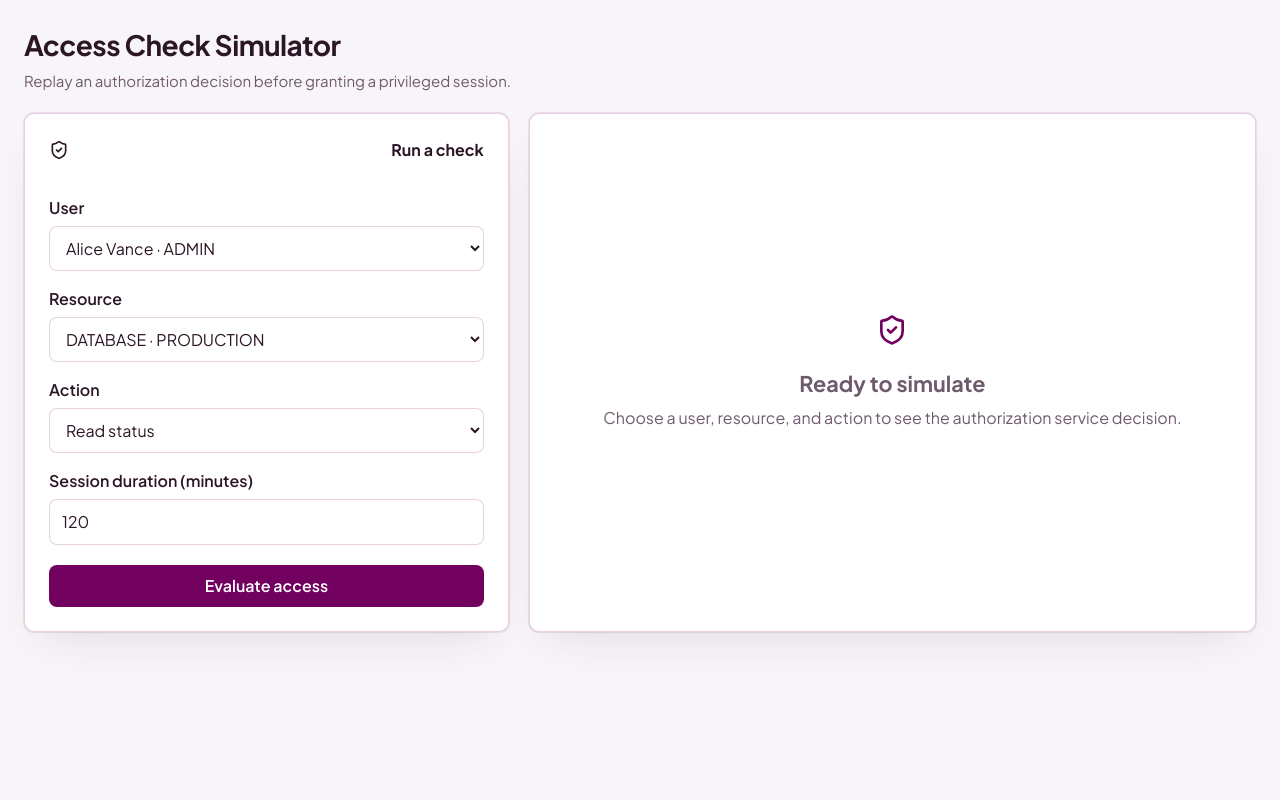
Access check simulator › shows the APPROVAL_REQUIRED decision and reason
This screenshot has width=1280, height=800.
Click the button "Evaluate access".
click(266, 586)  # box [49, 564, 484, 606]
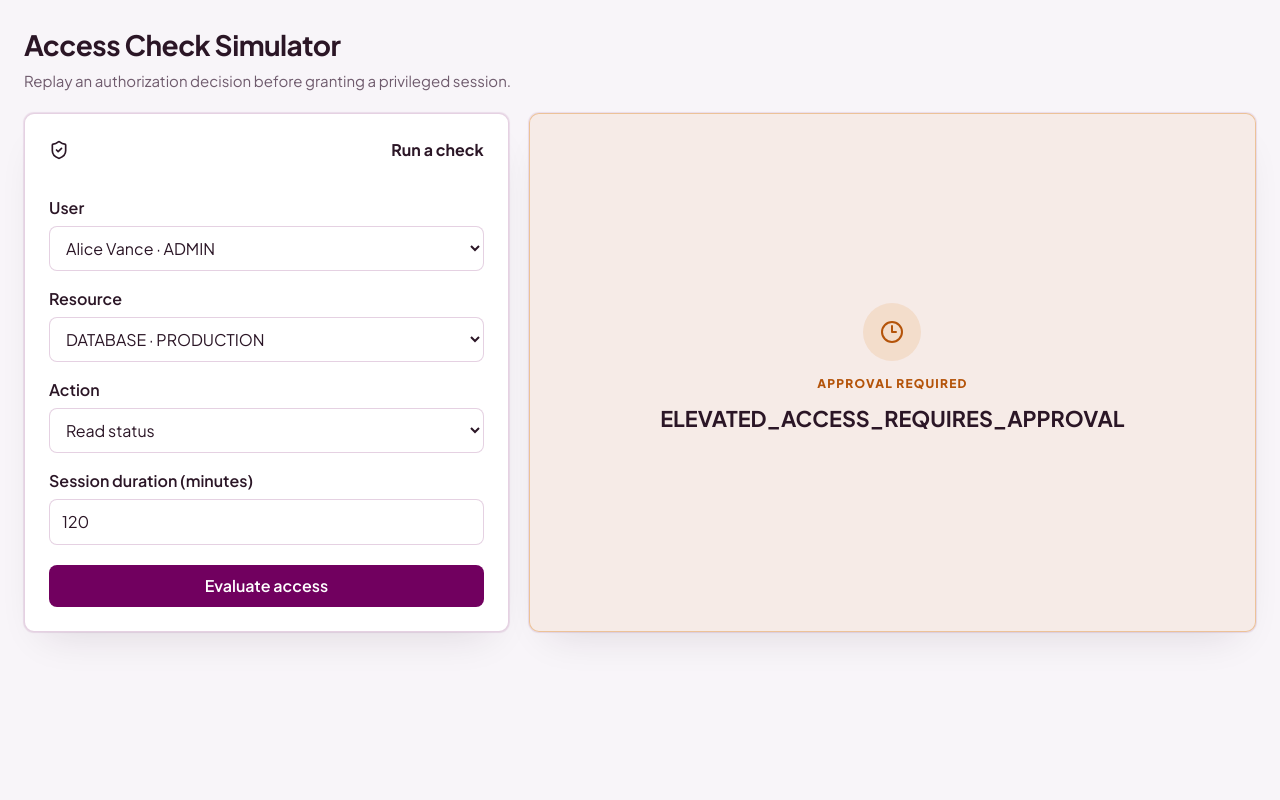
Now the element with test id "decision-result" shows "ELEVATED_ACCESS_REQUIRES_APPROVAL", box [660, 405, 1125, 432]
